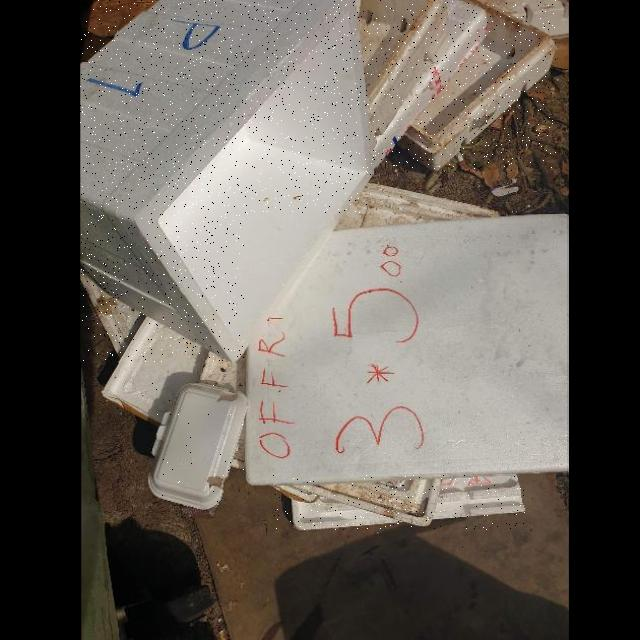styrofoam: (81, 0, 373, 363), (245, 215, 568, 488), (398, 0, 556, 172), (373, 0, 490, 168), (273, 476, 525, 530), (359, 0, 449, 147), (148, 383, 249, 510)
